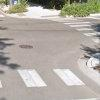Crosswalk: (3, 64, 98, 100)
